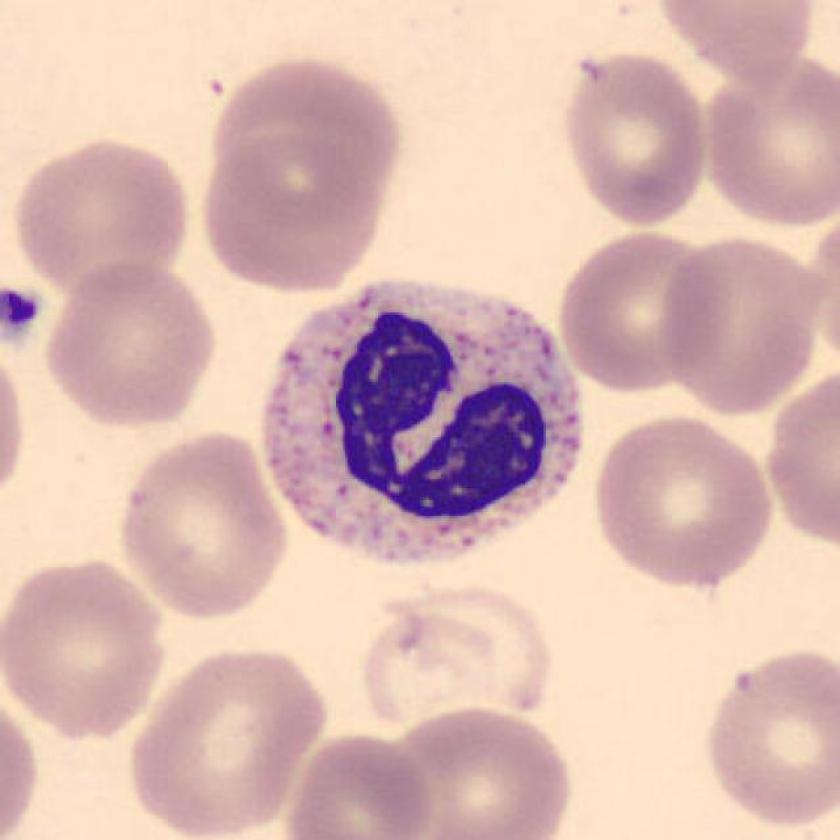neutrophil: (263, 282, 580, 563)
